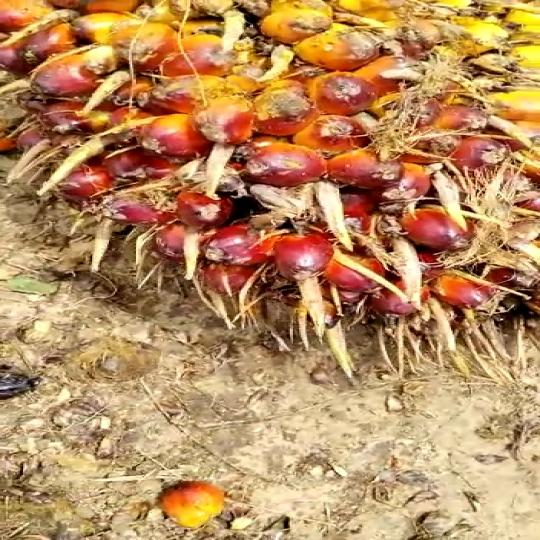masak: (0, 0, 540, 363)
